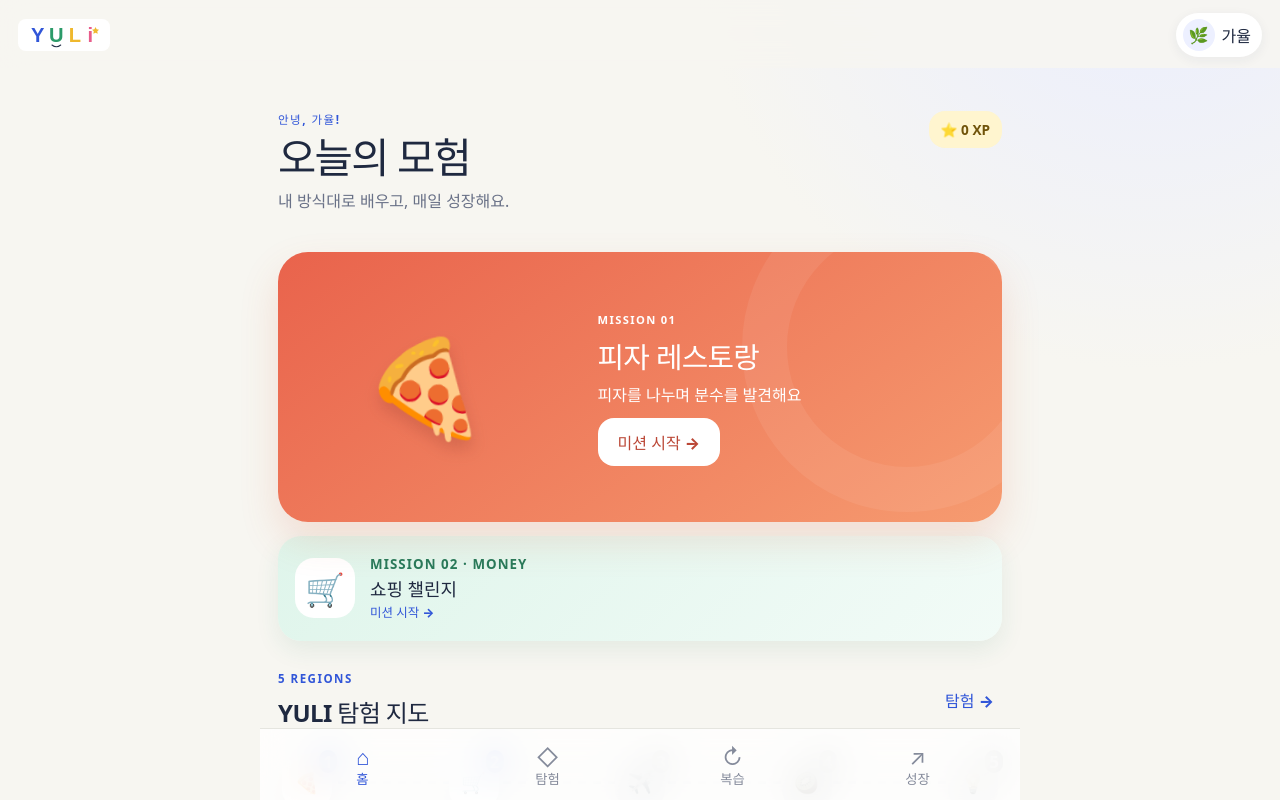
Scenario: YULI app flow › updates the selected learner name throughout the app when language changes
Expected: the text "안녕, 가율!" is shown, x1=278 y1=112 x2=340 y2=127
Click the button with aria-label "설정" at (1219, 35), box x1=1176 y1=13 x2=1262 y2=57
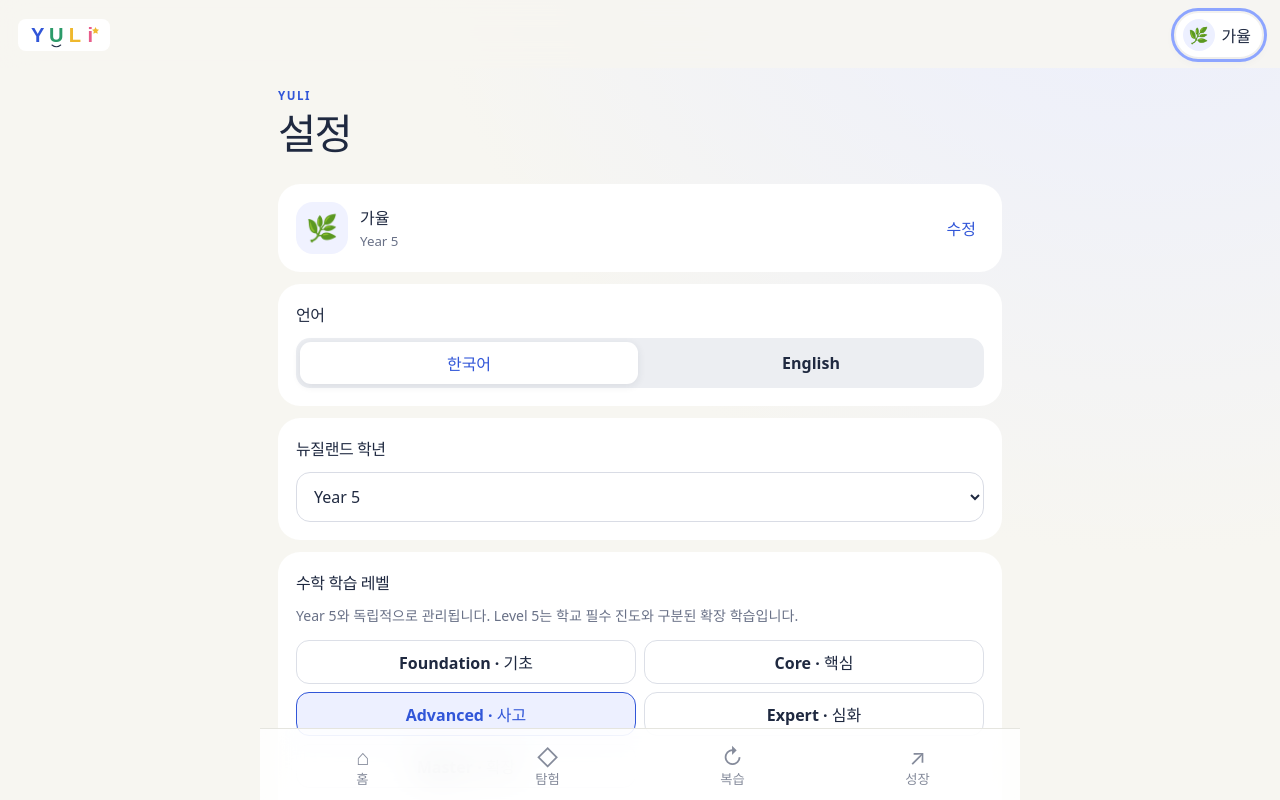
Expected: the 1st text "가율" is shown, x1=1222 y1=23 x2=1251 y2=47
Click the button "English" at (811, 363), box x1=642 y1=342 x2=980 y2=384
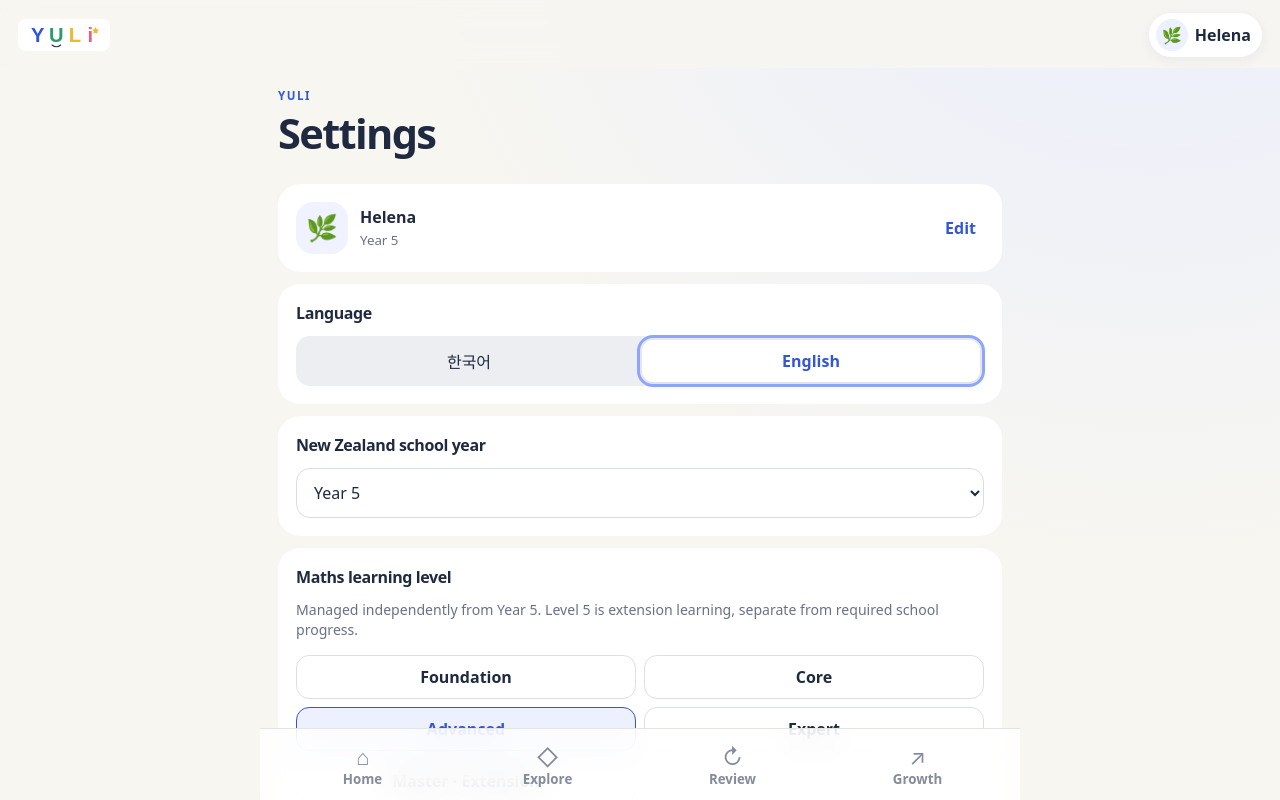
Expected: the 1st text "Helena" is shown, x1=1195 y1=24 x2=1251 y2=46
Expected: the button "가율" is gone
Click the button "↗ Growth" at (918, 767), box x1=825 y1=734 x2=1010 y2=799
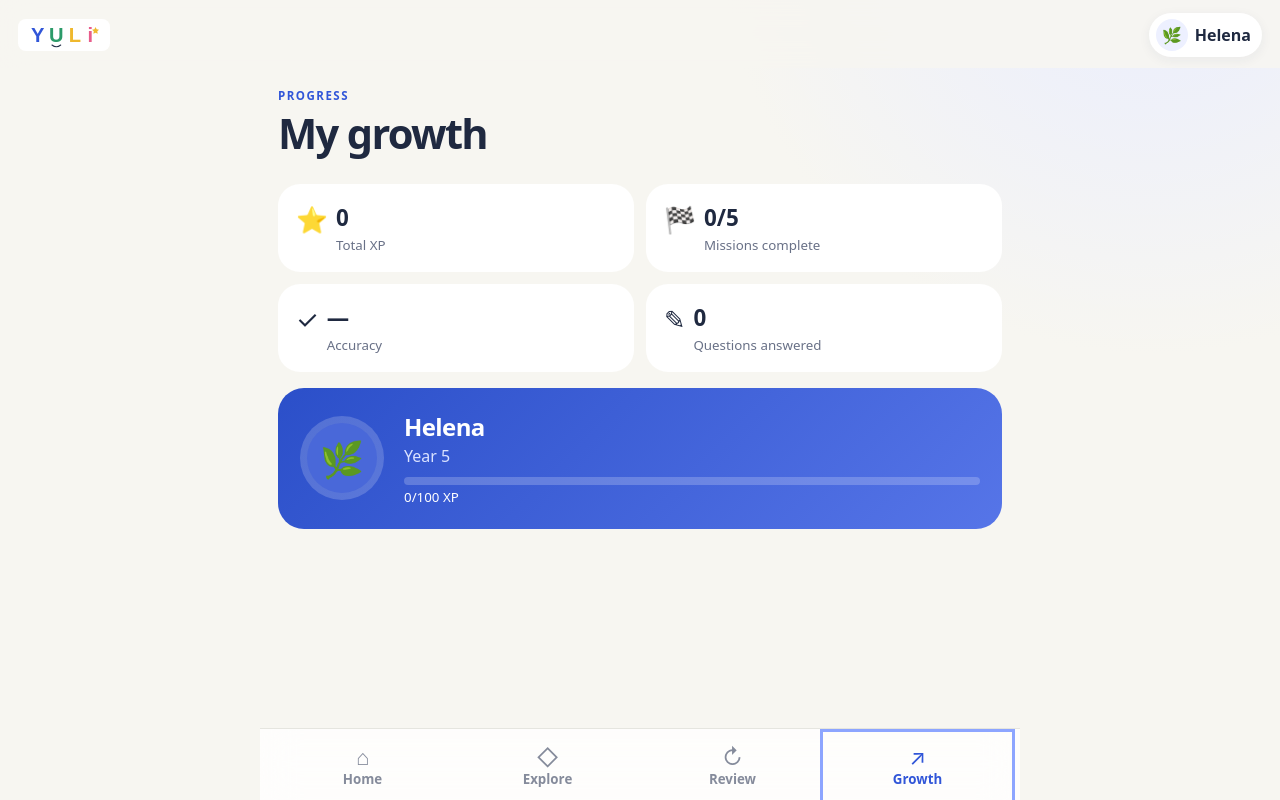
Expected: the heading "Helena" is shown, x1=404 y1=410 x2=485 y2=443
Click the button "⌂ Home" at (362, 767), box x1=270 y1=734 x2=455 y2=799
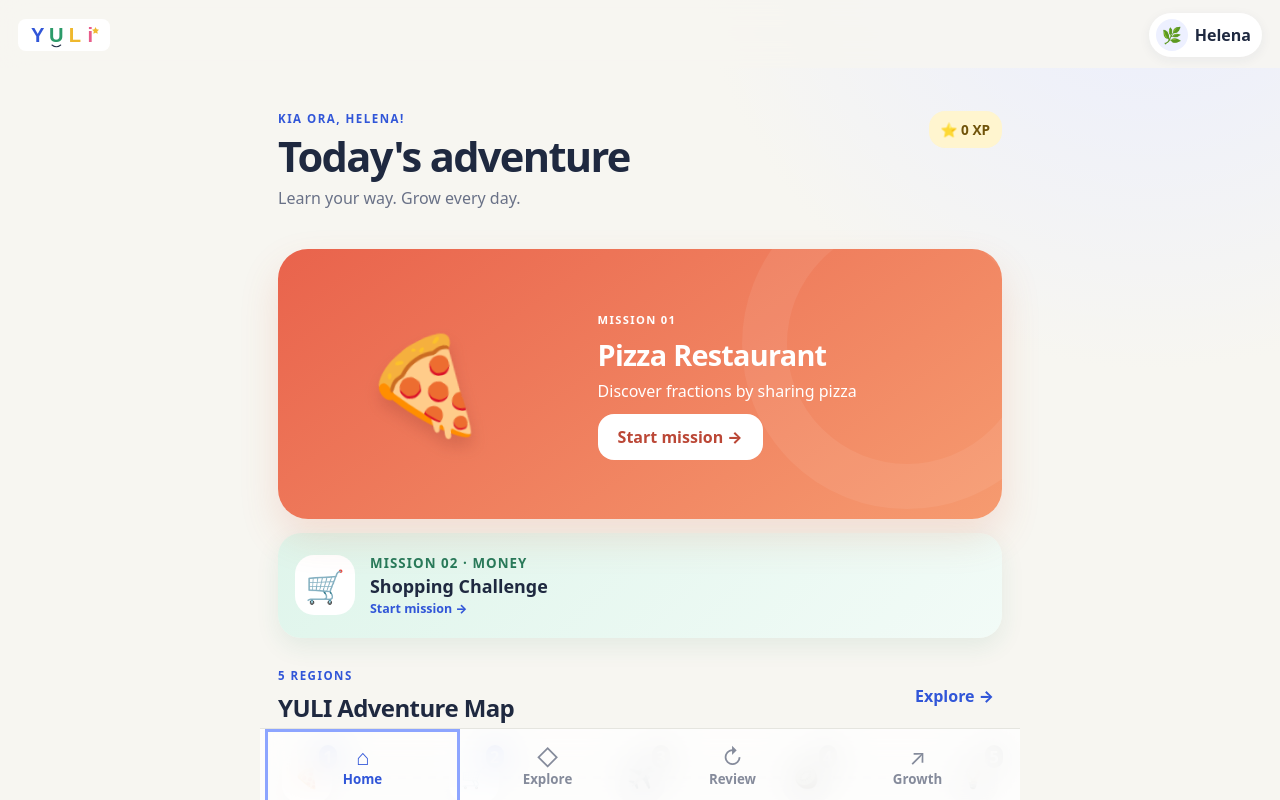
Expected: the text "Kia ora, Helena!" is shown, x1=278 y1=111 x2=405 y2=126
